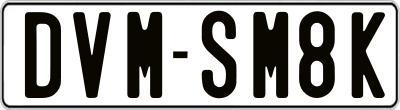8: (298, 9, 337, 96)
D: (24, 12, 62, 102)
K: (351, 9, 386, 100)
M: (250, 12, 291, 99), (124, 10, 165, 96)
S: (199, 10, 236, 99)
V: (72, 9, 112, 101)
